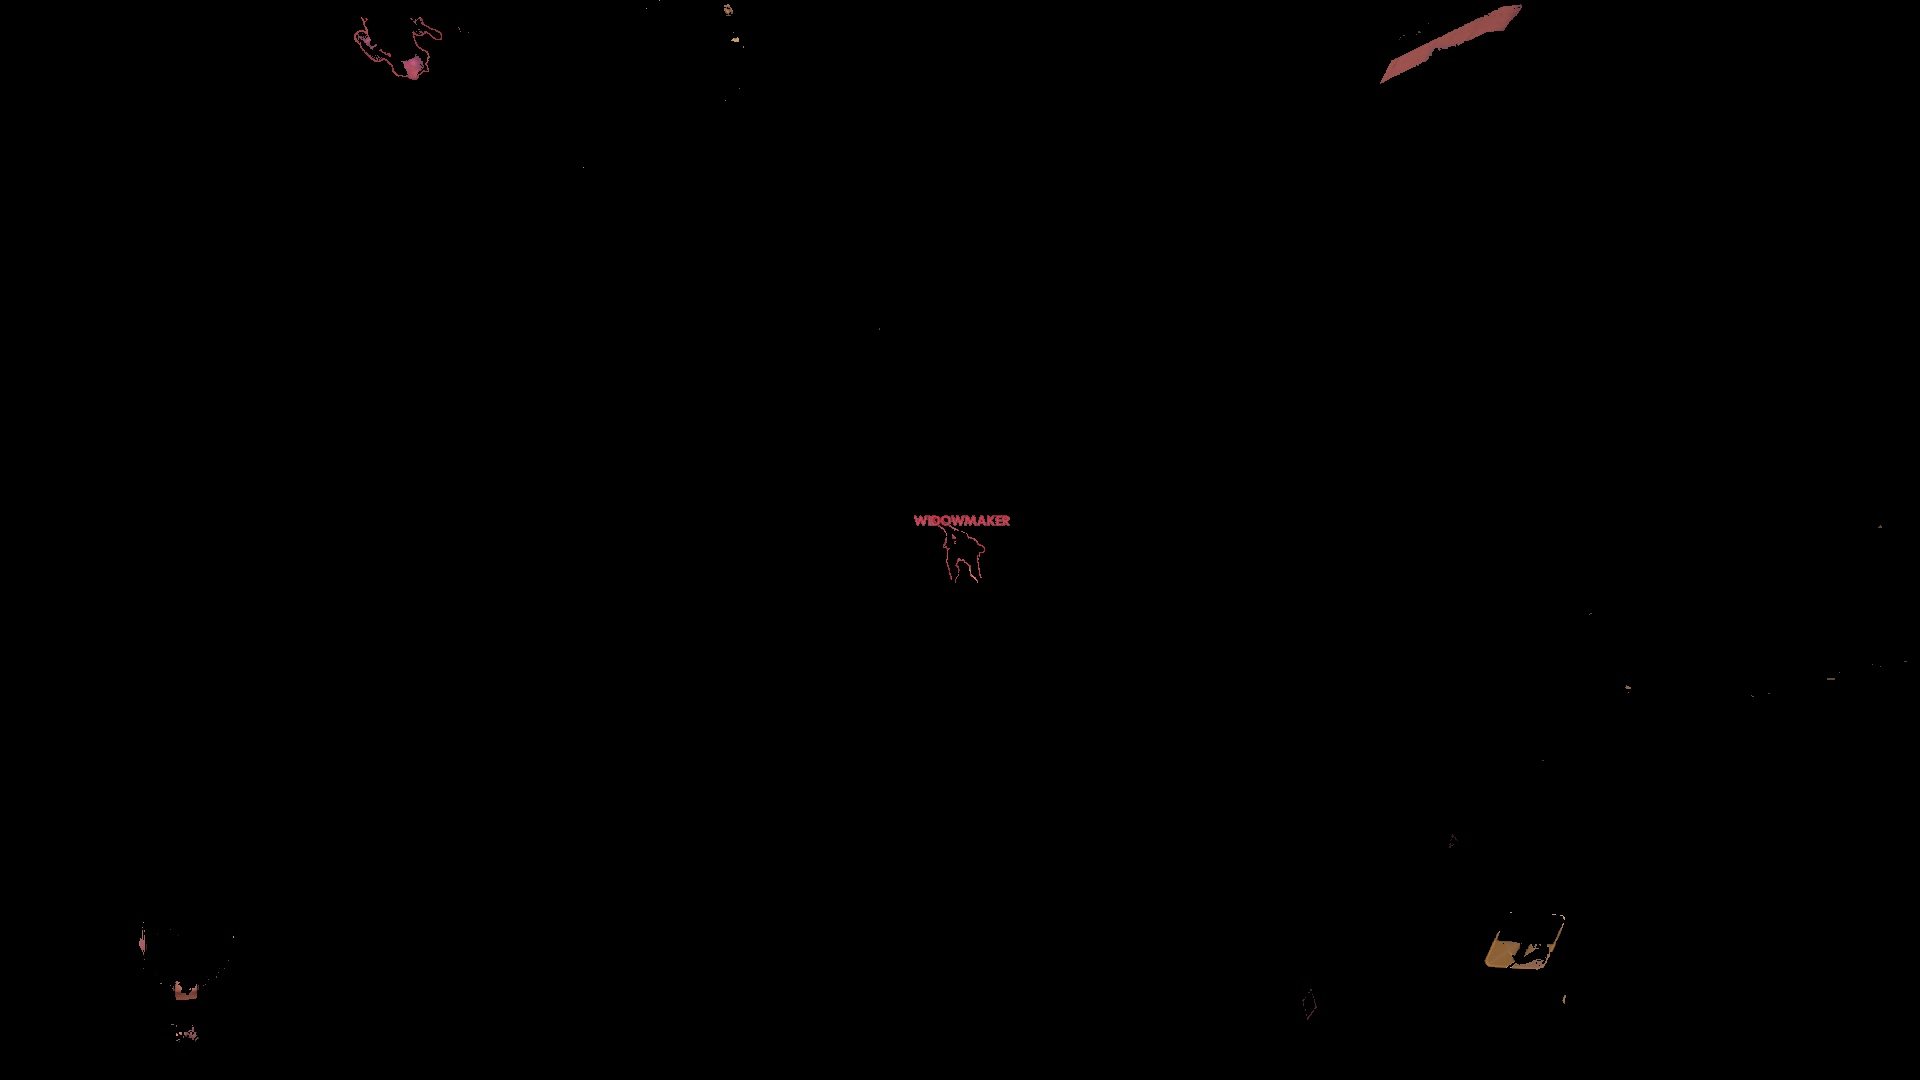widowmaker: (943, 529, 986, 585)
